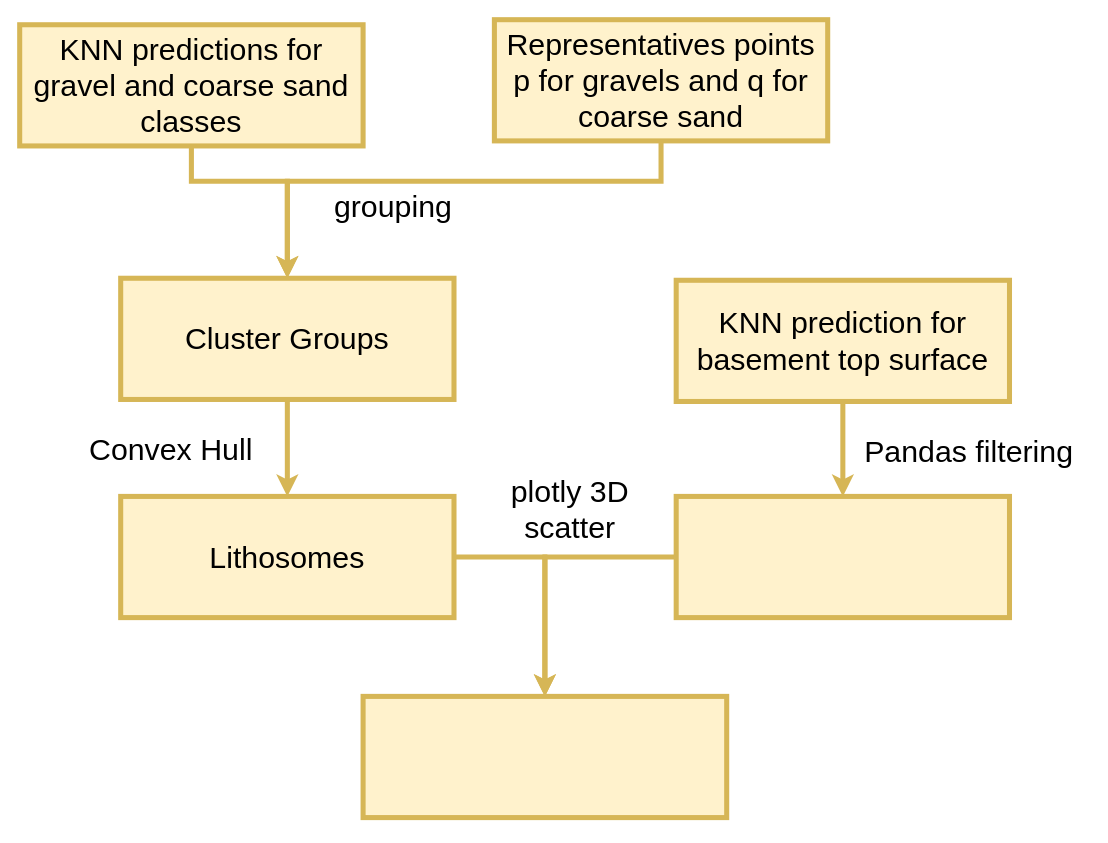
The diagram is 1108 pixels wide and 843 high, and some of its shapes have lost their labels. Here are the shapes that lost their labels. From the top down, the centre of each, then its label:
At (842,556): "Points where the basement is first reached".
At (544,756): "3D model 3D_lithosomes_LRD.html".
